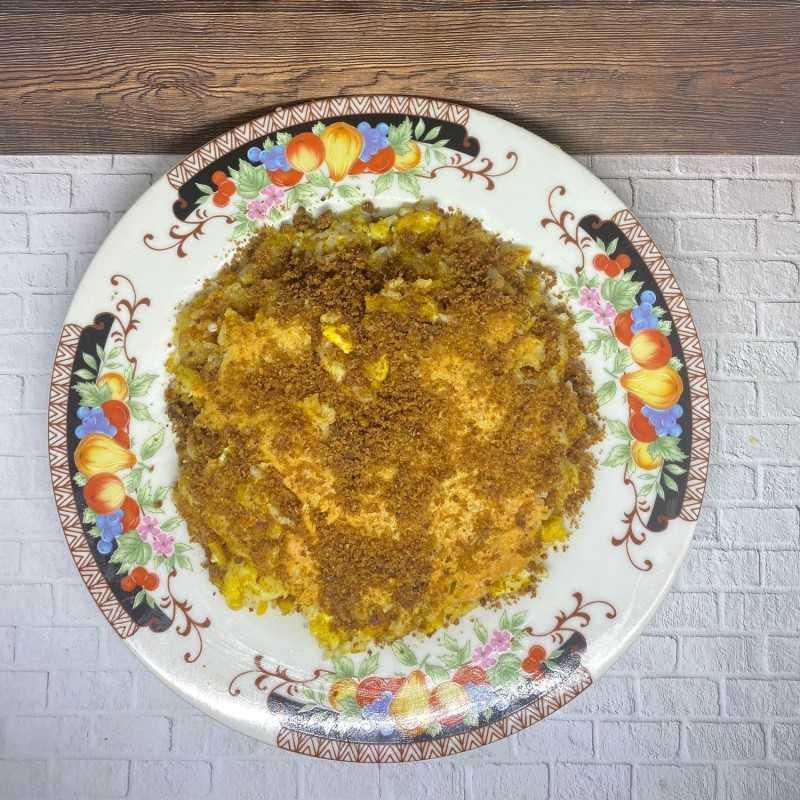kerak_telor: (165, 199, 605, 662)
